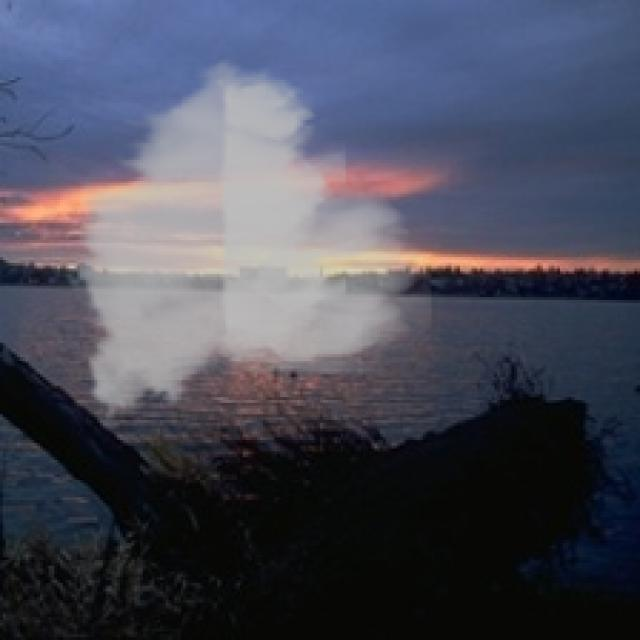Smoke: (62, 49, 432, 432)
